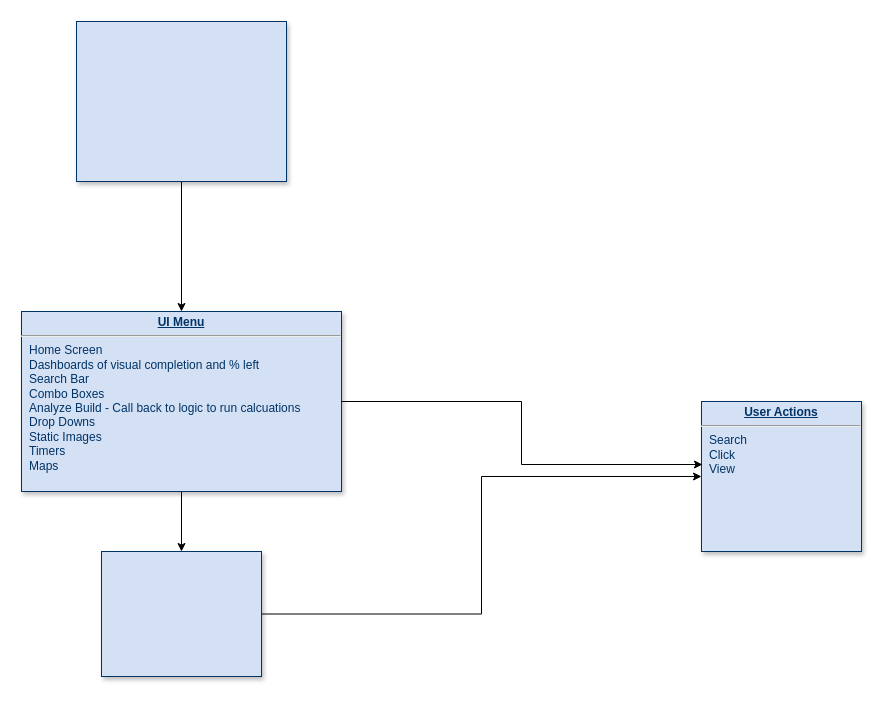
Some shapes in this 885 by 701 pixel diagram are drawn without their labels. The shapes that lost their labels are listed below. From the top down, each one's centre as x and y in pixels, then its label:
pixel 182 102: API Set up of Logic access end points
pixel 182 615: UI Search Search Fuzz Search Partial Search Suggested Search
